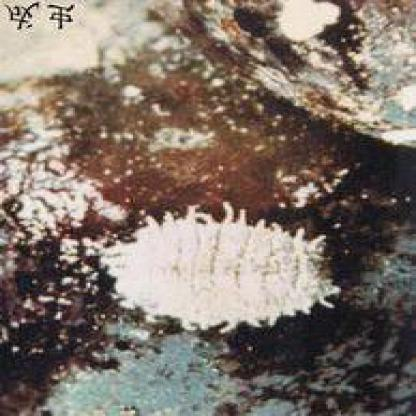mealy bug: (97, 216, 336, 330)
